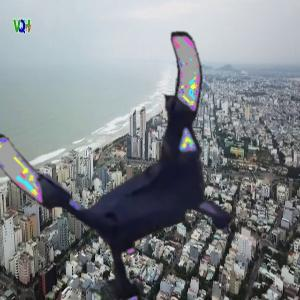drone: (18, 40, 271, 293)
